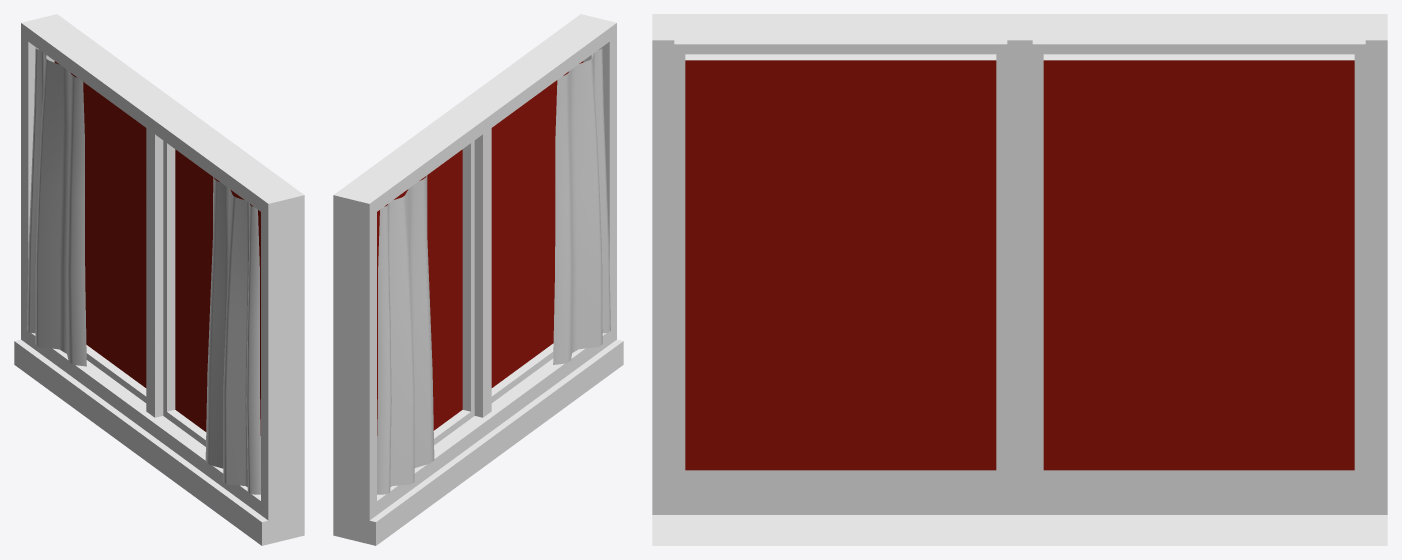
The model's file is SM_Window_03.fbx.
3 renders of one model, left to right at view 1: azimuth 30°, elevation 25°; view 2: azimuth 150°, elevation 25°; view 3: azimuth 270°, elevation 25°, orthographic. The views are drawn at different scales.
Visible parts, largest first — view 1: SM_Window_03, SM_Curtains_03; view 2: SM_Window_03, SM_Curtains_03; view 3: SM_Window_03.
Part boxes in pixels (x1,y1,x2,y2): SM_Window_03: [14, 14, 304, 545]; SM_Curtains_03: [27, 47, 260, 494]; SM_Window_03: [333, 14, 623, 545]; SM_Curtains_03: [377, 47, 610, 494]; SM_Window_03: [652, 14, 1387, 545].
Size of the model in its own units: 23.35 by 152 by 200.
